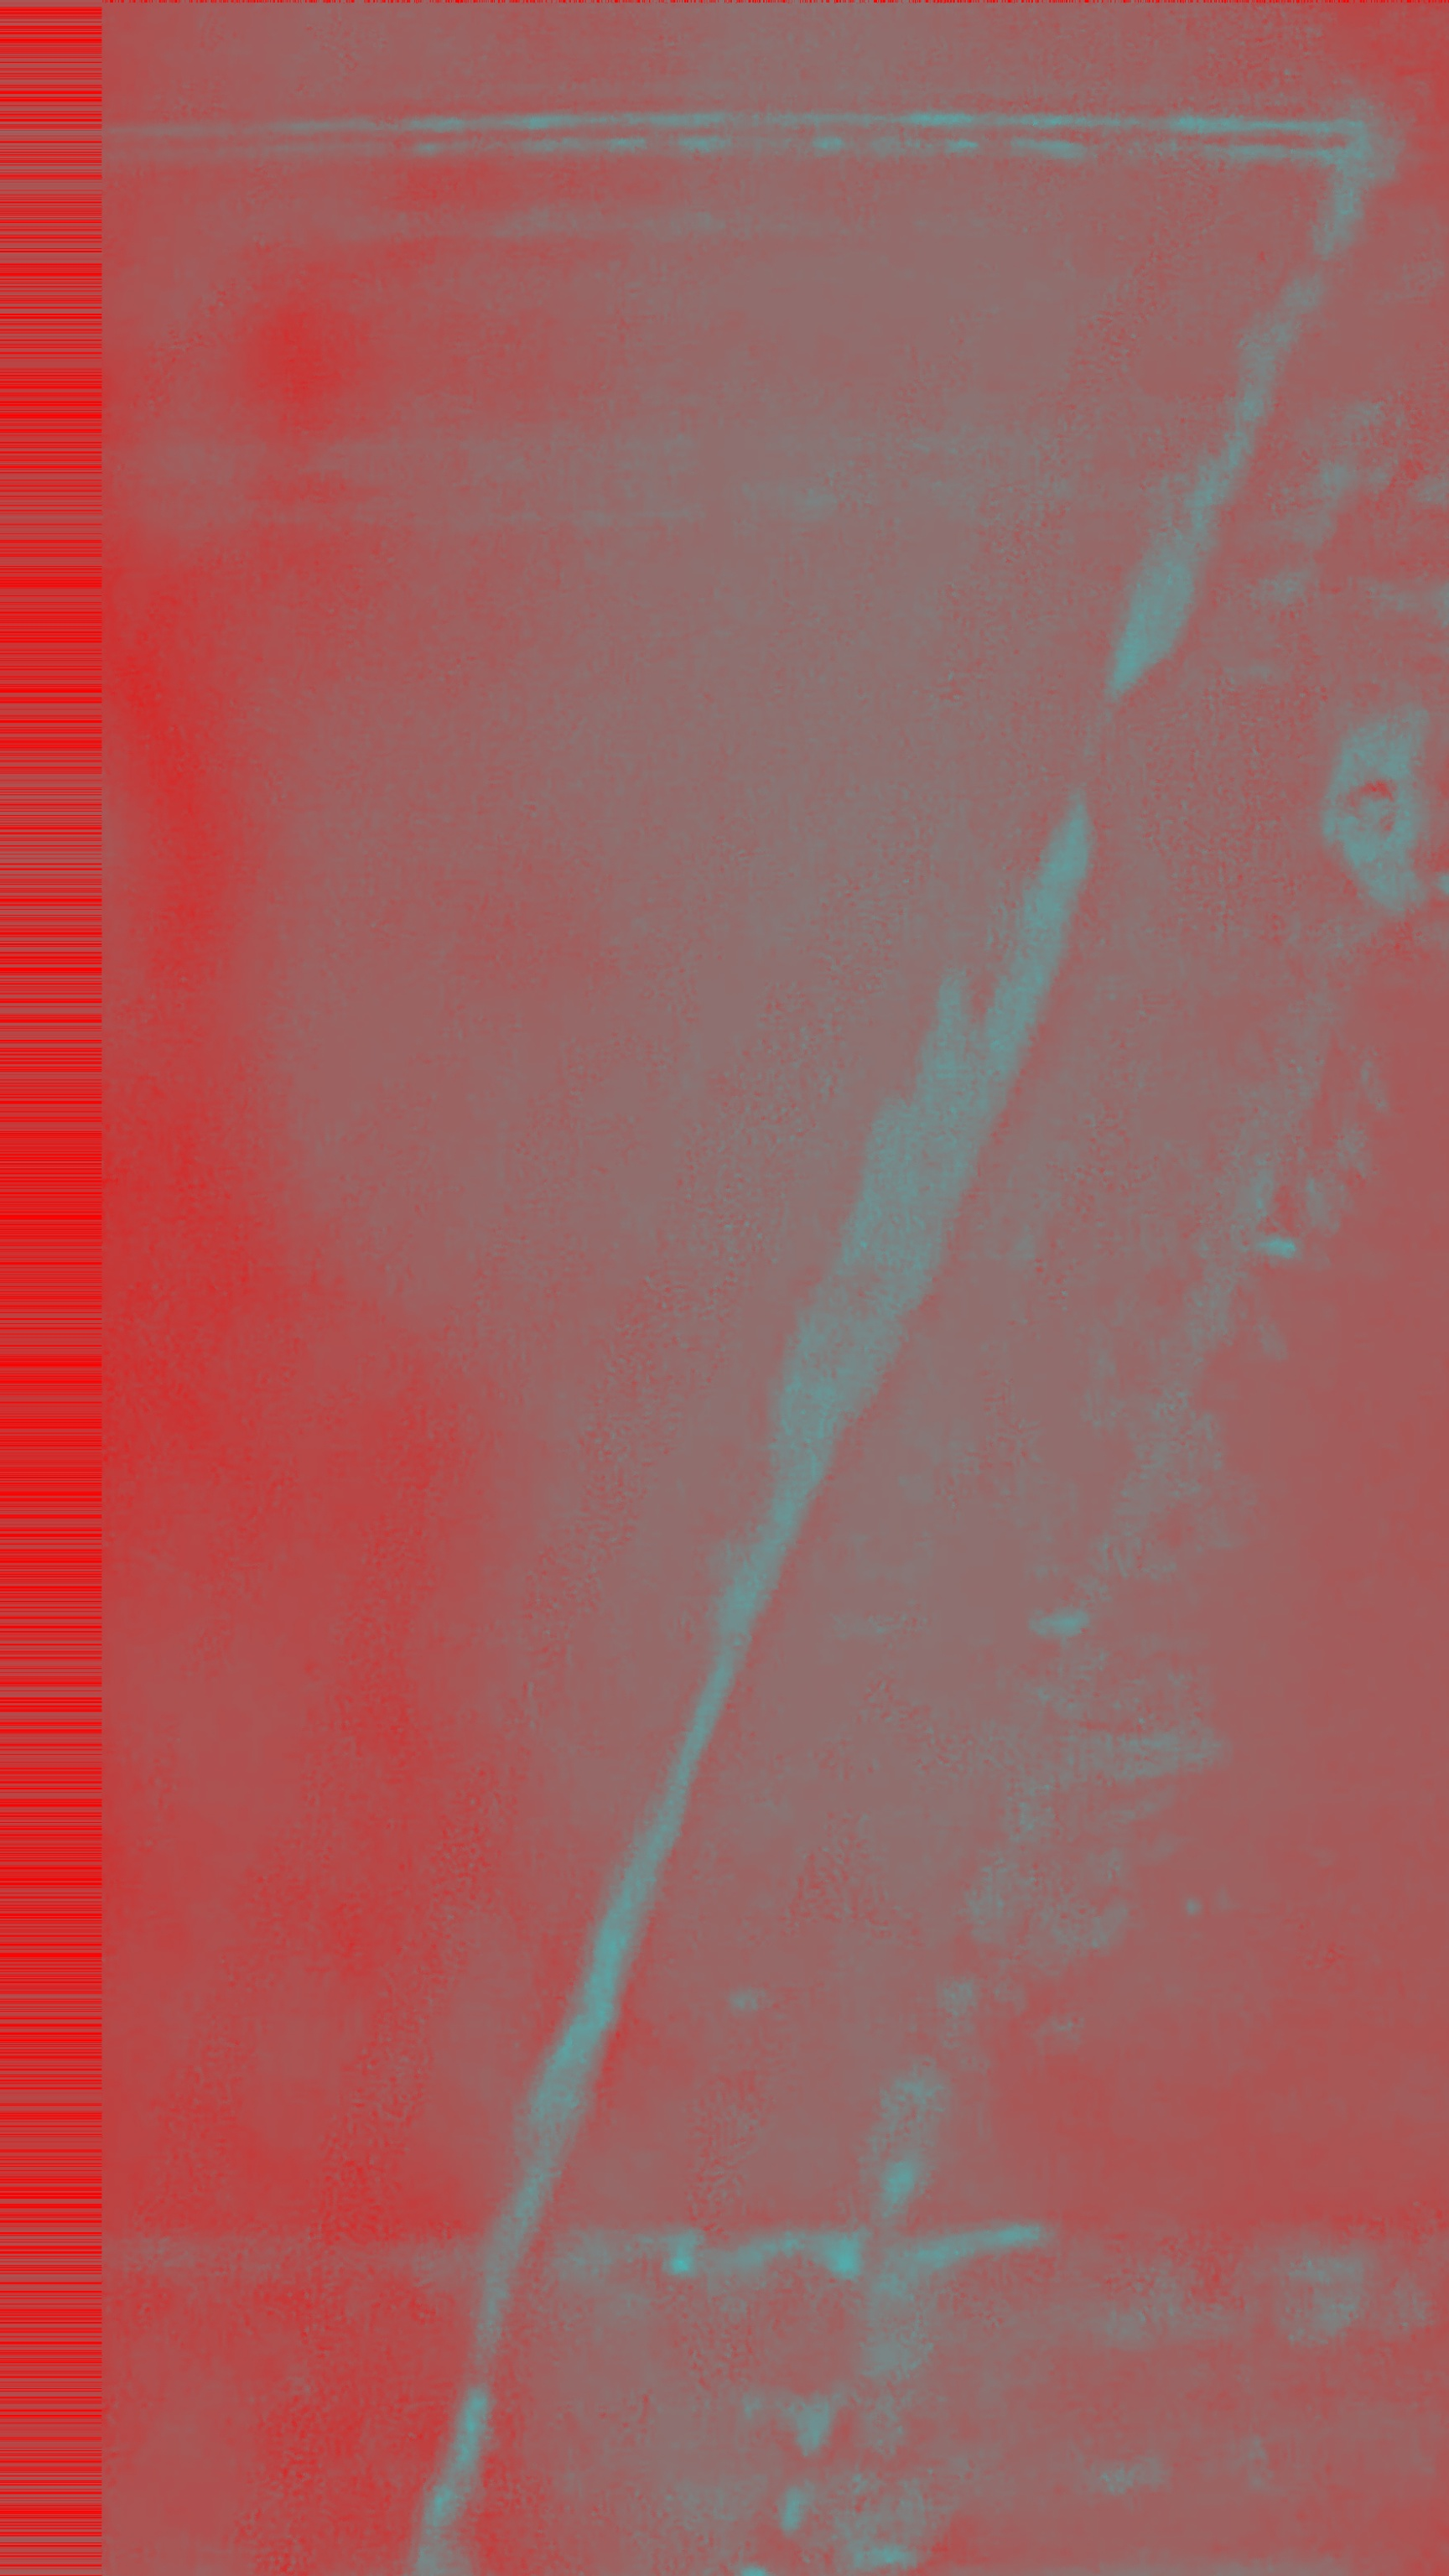splice_vulcanized: (287, 0, 1449, 2576)
